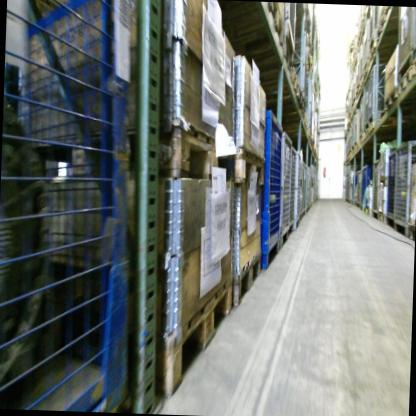pallet: (157, 273, 236, 402), (155, 126, 239, 186), (231, 246, 266, 311), (250, 41, 293, 85), (225, 148, 267, 188), (264, 61, 299, 95), (262, 4, 286, 47), (369, 114, 414, 135), (384, 88, 416, 115), (370, 33, 398, 59), (284, 113, 309, 137), (284, 88, 306, 111), (399, 66, 414, 98), (366, 127, 403, 138), (382, 9, 397, 27), (361, 66, 378, 80), (300, 55, 315, 70), (410, 49, 416, 86), (357, 80, 368, 95), (359, 134, 370, 144)
stillage: (260, 100, 285, 270), (392, 134, 416, 237), (276, 127, 294, 251), (368, 63, 391, 123), (397, 8, 413, 76), (386, 143, 399, 225), (287, 146, 298, 241), (284, 4, 300, 55), (293, 152, 303, 226), (372, 158, 381, 222), (361, 163, 372, 211), (362, 21, 373, 69), (362, 74, 371, 131), (302, 161, 308, 219), (353, 57, 362, 94), (299, 161, 304, 220), (357, 165, 364, 207), (358, 40, 364, 79), (412, 7, 416, 55)
